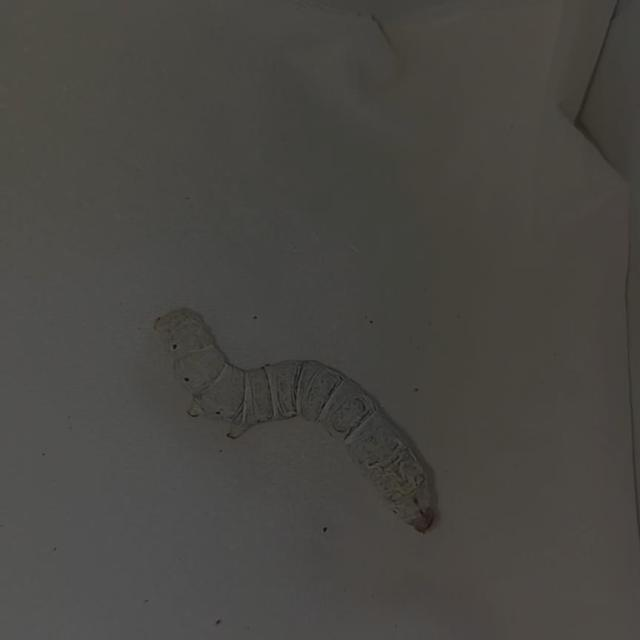Healthy: (133, 289, 460, 544)
